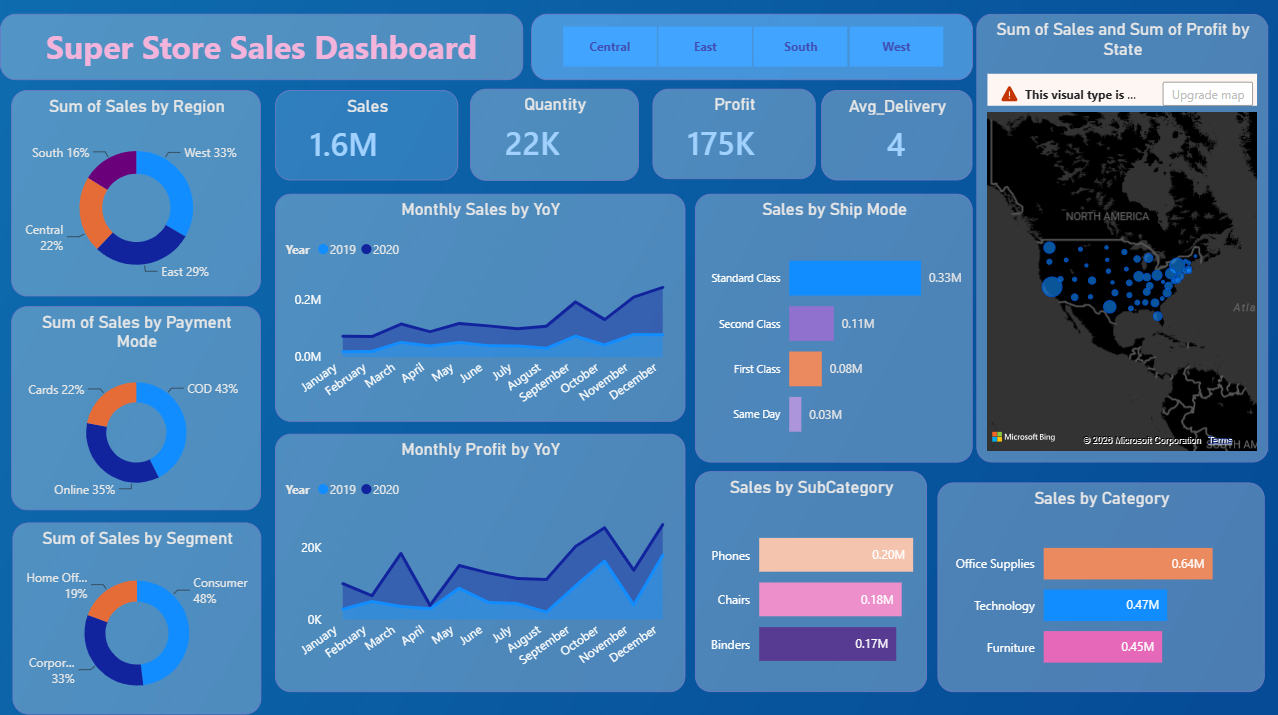

The page's visual inventory and layout, read from the dashboard file:
{"tool":"powerbi","page":{"name":"Duplicate of Dashboard","canvas":[1280,720],"ordinal":0},"visuals":[{"type":"clusteredBarChart","title":"Sales by Category","fields":{"Category":["SuperStore Sales Dataset.Category"],"Y":["Sum(SuperStore Sales Dataset.Sales)"]},"box":[937.4,482.6,326.9,209.9],"z":0},{"type":"clusteredBarChart","title":"Sales by SubCategory","fields":{"Category":["SuperStore Sales Dataset.Sub-Category"],"Y":["Sum(SuperStore Sales Dataset.Sales)"]},"box":[694.9,471.7,231.6,220.8],"z":1000},{"type":"clusteredBarChart","title":"Sales by Ship Mode","fields":{"Category":["SuperStore Sales Dataset.Ship Mode"],"Y":["Sum(SuperStore Sales Dataset.Sales)"]},"box":[694.9,194.2,277.5,269],"z":2000},{"type":"stackedAreaChart","title":"Monthly Sales by YoY","fields":{"Category":["SuperStore Sales Dataset.Order Date.Variation.Date Hierarchy.Month","SuperStore Sales Dataset.Order Date.Variation.Date Hierarchy.Day"],"Series":["SuperStore Sales Dataset.Order Date.Variation.Date Hierarchy.Year"],"Y":["Sum(SuperStore Sales Dataset.Sales)"]},"box":[275.1,194.2,410.3,227.8],"z":3000},{"type":"stackedAreaChart","title":"Monthly Profit by YoY","fields":{"Category":["SuperStore Sales Dataset.Order Date.Variation.Date Hierarchy.Month","SuperStore Sales Dataset.Order Date.Variation.Date Hierarchy.Day"],"Series":["SuperStore Sales Dataset.Order Date.Variation.Date Hierarchy.Year"],"Y":["Sum(SuperStore Sales Dataset.Profit)"]},"box":[275.1,434.3,410.2,258.2],"z":4000},{"type":"map","fields":{"Category":["SuperStore Sales Dataset.State"],"Size":["Sum(SuperStore Sales Dataset.Sales)"]},"box":[976,13.3,292,448.8],"z":5000},{"type":"donutChart","fields":{"Category":["SuperStore Sales Dataset.Segment"],"Y":["Sum(SuperStore Sales Dataset.Sales)"]},"box":[12.1,522.4,248.5,191.8],"z":6000},{"type":"donutChart","fields":{"Category":["SuperStore Sales Dataset.Payment Mode"],"Y":["Sum(SuperStore Sales Dataset.Sales)"]},"box":[10.9,306.4,249.7,203.9],"z":7000},{"type":"slicer","fields":{"Values":["SuperStore Sales Dataset.Region"]},"box":[530.8,13.3,441.6,66.4],"z":8000},{"type":"textbox","box":[0,13.3,523.6,66.4],"z":9000},{"type":"cardVisual","title":"Sales ","fields":{"Data":["Sum(SuperStore Sales Dataset.Sales)"]},"box":[275.1,90.5,183.4,90.5],"z":10000},{"type":"cardVisual","title":"Quantity","fields":{"Data":["Sum(SuperStore Sales Dataset.Quantity)"]},"box":[470.5,89.3,168.9,91.7],"z":11000},{"type":"cardVisual","title":"Profit","fields":{"Data":["Sum(SuperStore Sales Dataset.Profit)"]},"box":[652.7,89.3,162.9,90.5],"z":12000},{"type":"cardVisual","title":"Avg_Delivery","fields":{"Data":["Avg(SuperStore Sales Dataset.AvgDelivery)"]},"box":[821.6,90.5,150.8,90.5],"z":13000},{"type":"donutChart","fields":{"Category":["SuperStore Sales Dataset.Region"],"Y":["Sum(SuperStore Sales Dataset.Sales)"]},"box":[10.9,90.5,249.7,206.3],"z":14000}]}

Visuals, with their boxes in screenshot pixels (x1, y1, x2, y2), scaled from the page's 1280x720 canvas onto the 1278x715 screenshot:
"Sales by Category" clusteredBarChart: <box>936,479,1262,688</box>
"Sales by SubCategory" clusteredBarChart: <box>694,468,925,688</box>
"Sales by Ship Mode" clusteredBarChart: <box>694,193,971,460</box>
"Monthly Sales by YoY" stackedAreaChart: <box>275,193,684,419</box>
"Monthly Profit by YoY" stackedAreaChart: <box>275,431,684,688</box>
map - SuperStore Sales Dataset.State x Sum(SuperStore Sales Dataset.Sales): <box>974,13,1266,459</box>
donutChart - SuperStore Sales Dataset.Segment x Sum(SuperStore Sales Dataset.Sales): <box>12,519,260,709</box>
donutChart - SuperStore Sales Dataset.Payment Mode x Sum(SuperStore Sales Dataset.Sales): <box>11,304,260,507</box>
slicer - SuperStore Sales Dataset.Region: <box>530,13,971,79</box>
textbox: <box>0,13,523,79</box>
"Sales " cardVisual: <box>275,90,458,180</box>
"Quantity" cardVisual: <box>470,89,638,180</box>
"Profit" cardVisual: <box>652,89,814,179</box>
"Avg_Delivery" cardVisual: <box>820,90,971,180</box>
donutChart - SuperStore Sales Dataset.Region x Sum(SuperStore Sales Dataset.Sales): <box>11,90,260,295</box>
